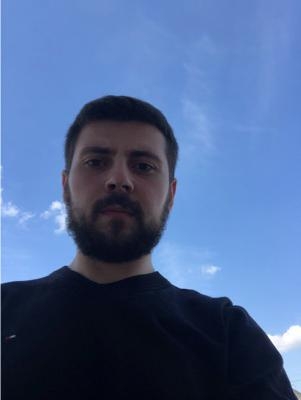without_mask: (69, 141, 169, 264)
